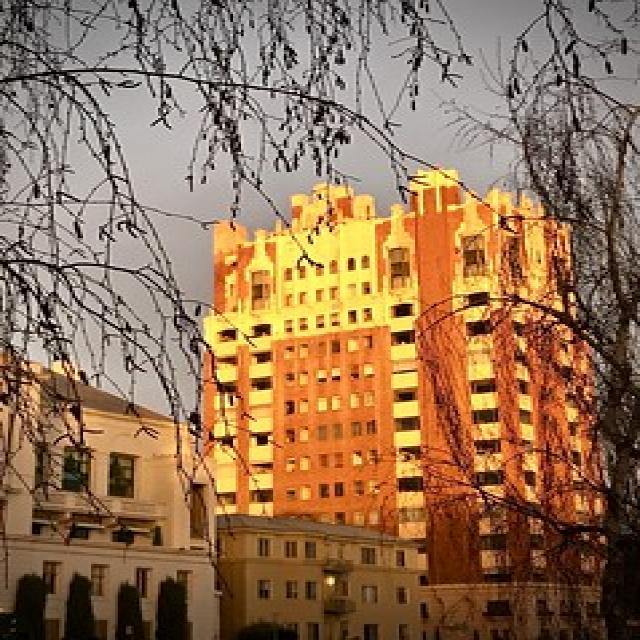building: (196, 160, 613, 640)
